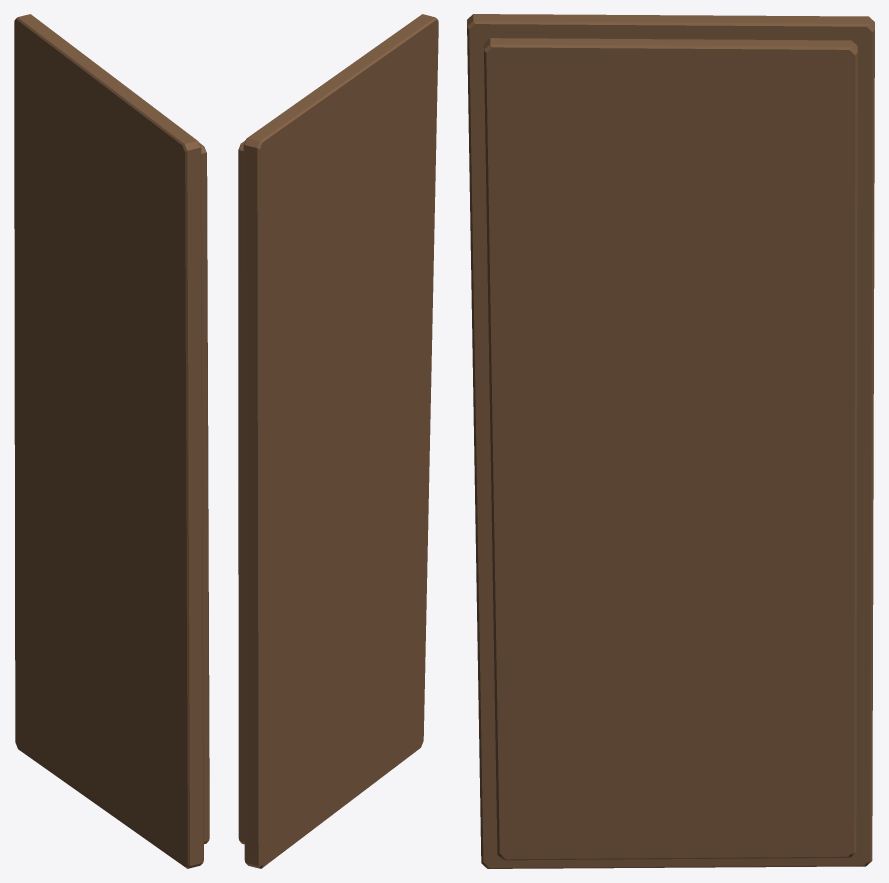
Rendered from ClosetLeft.fbx.
The picture shows the model from 3 angles, left to right: view 1: azimuth 30°, elevation 25°; view 2: azimuth 150°, elevation 25°; view 3: azimuth 270°, elevation 25°; orthographic projection. The views are drawn at different scales.
Visible parts, largest first — view 1: ClosetDoorLeft; view 2: ClosetDoorLeft; view 3: ClosetDoorLeft.
Boxes of the visible parts, x1,y1,x2,y2 form: ClosetDoorLeft: (14,14,209,868); ClosetDoorLeft: (238,14,438,868); ClosetDoorLeft: (467,14,874,868).
Size of the model in its own units: 0.4071 by 7.45 by 3.27.
